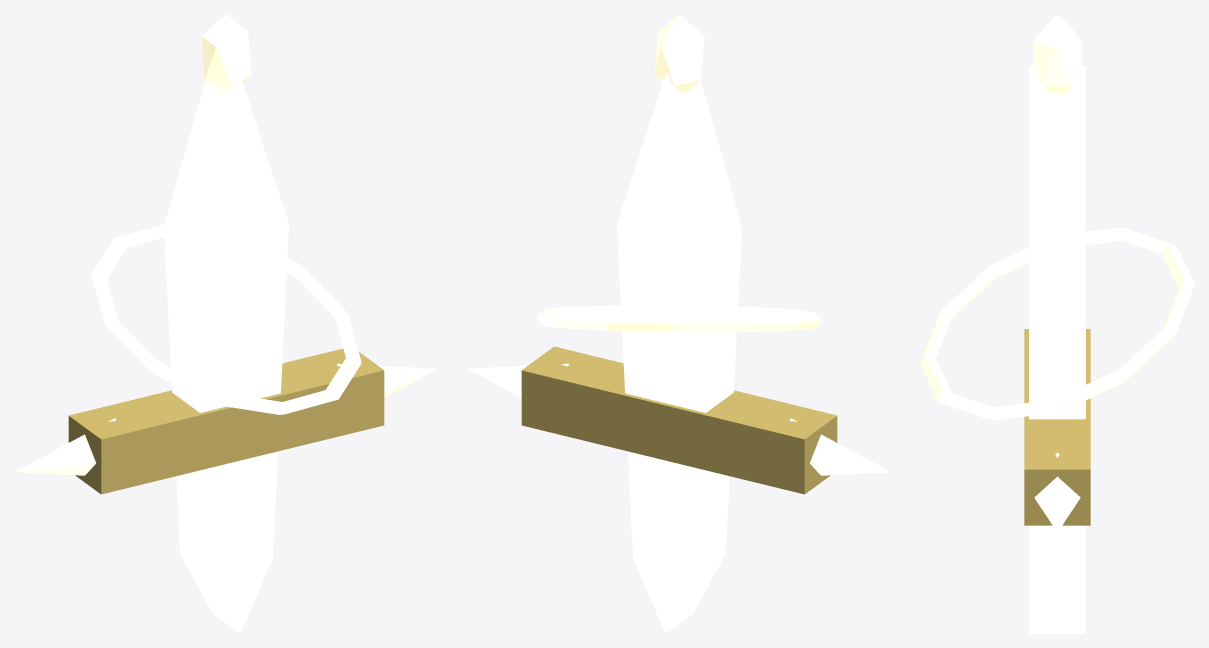
Rendered from smite.glb.
3 renders of one model, left to right at view 1: azimuth 30°, elevation 25°; view 2: azimuth 150°, elevation 25°; view 3: azimuth 270°, elevation 25°, orthographic.
Visible parts, largest first — view 1: DivineSpear, SmiteCrossbar, SmiteRuneRing, SmiteFocus, CrossbarRay_-1, CrossbarRay_1; view 2: DivineSpear, SmiteCrossbar, SmiteRuneRing, SmiteFocus, CrossbarRay_-1, CrossbarRay_1; view 3: DivineSpear, SmiteRuneRing, SmiteCrossbar, SmiteFocus, CrossbarRay_1.
Part boxes in pixels (left/top/right/bottom): DivineSpear: left=164, top=73, right=288, bottom=633; SmiteCrossbar: left=68, top=348, right=384, bottom=494; SmiteRuneRing: left=91, top=224, right=361, bottom=414; SmiteFocus: left=201, top=14, right=251, bottom=91; CrossbarRay_-1: left=14, top=418, right=116, bottom=475; CrossbarRay_1: left=337, top=363, right=438, bottom=397; DivineSpear: left=617, top=73, right=741, bottom=633; SmiteCrossbar: left=521, top=346, right=837, bottom=494; SmiteRuneRing: left=536, top=305, right=822, bottom=331; SmiteFocus: left=654, top=14, right=704, bottom=91; CrossbarRay_-1: left=789, top=418, right=891, bottom=475; CrossbarRay_1: left=467, top=363, right=568, bottom=397; DivineSpear: left=1029, top=65, right=1085, bottom=633; SmiteRuneRing: left=920, top=227, right=1194, bottom=420; SmiteCrossbar: left=1024, top=329, right=1090, bottom=525; SmiteFocus: left=1033, top=14, right=1081, bottom=93; CrossbarRay_1: left=1034, top=452, right=1080, bottom=532.
Size of the model in its own units: 1.05 by 1.44 by 0.5787.
